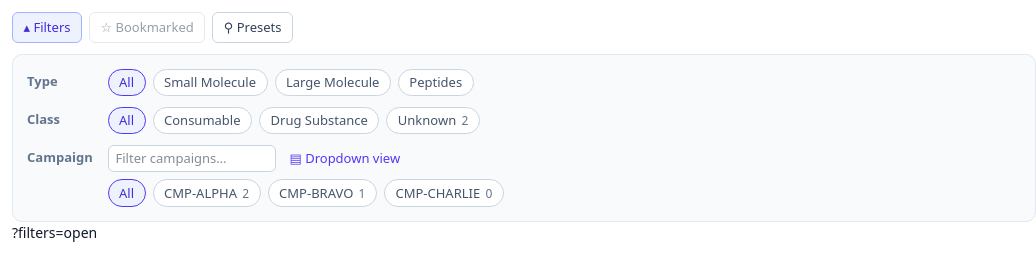
Scenario: F16-FR-02 / OQ-086: the Unknown class pill is always there, with its count, and uses the key "unknown"
The image size is (1036, 259).
Click the button "Unknown2". click: (433, 120)
box: x1=386 y1=107 x2=480 y2=134
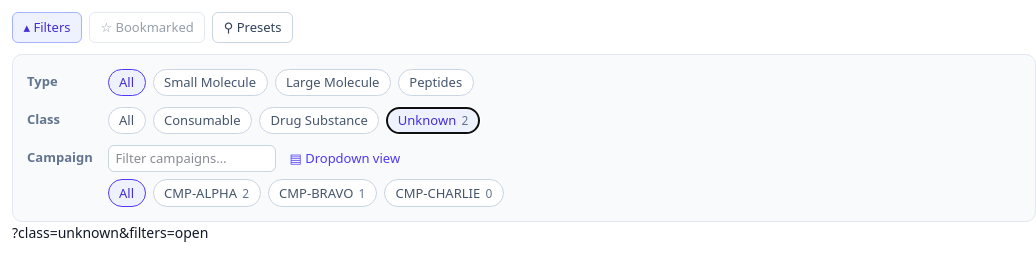
Now the text with test id "url" shows "class=unknown", box x1=12 y1=223 x2=208 y2=242
